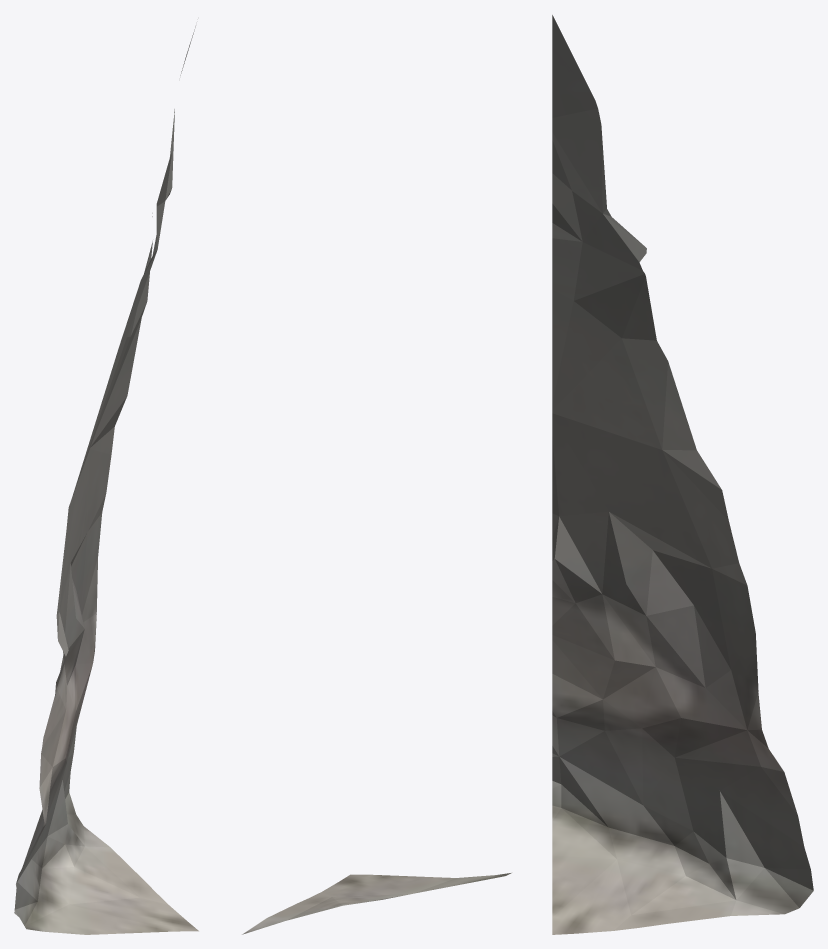
The picture shows the model from 3 angles, left to right: view 1: azimuth 30°, elevation 25°; view 2: azimuth 150°, elevation 25°; view 3: azimuth 270°, elevation 25°; orthographic projection. The views are drawn at different scales.
Bounding box in the file's own units: 0.1119 × 0.5296 × 0.1364.
Materials: 1 (1 with a texture image).
